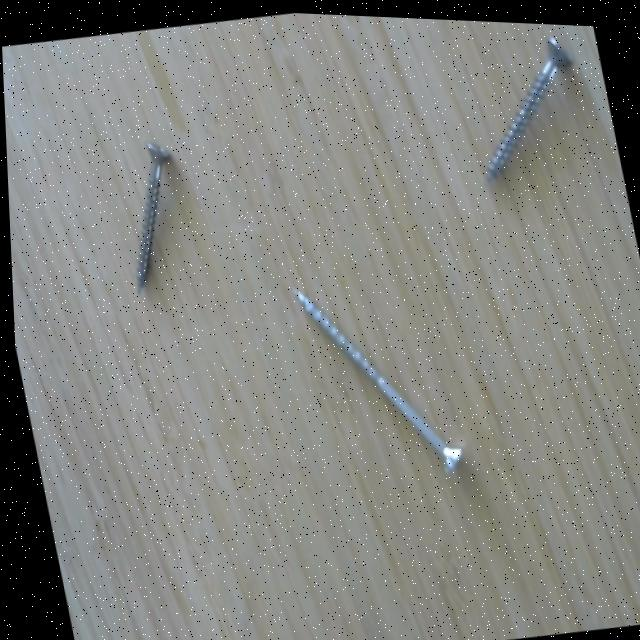Black screw: (458, 18, 599, 188), (102, 122, 200, 296)
Long screw: (283, 248, 470, 496)
